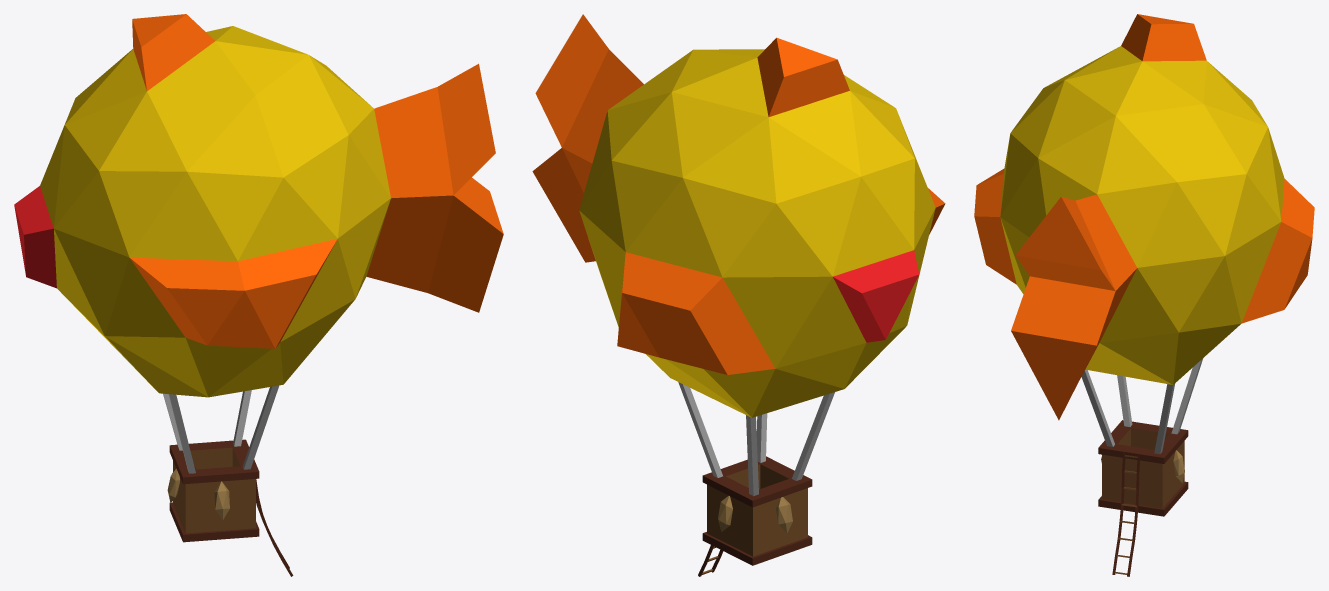
File: balloon01.gltf
3 views of the same model, side by side, from view 1: azimuth 30°, elevation 25°; view 2: azimuth 150°, elevation 25°; view 3: azimuth 270°, elevation 25° (orthographic). The views are drawn at different scales.
Visible parts, largest first — view 1: balloon01; view 2: balloon01; view 3: balloon01.
Boxes of the visible parts, box(x1,y1,x2,y2) form: balloon01: box(14, 14, 503, 576); balloon01: box(532, 14, 945, 576); balloon01: box(974, 14, 1314, 576).
Bounding box in the file's own units: 3.01 × 3.83 × 2.3.
